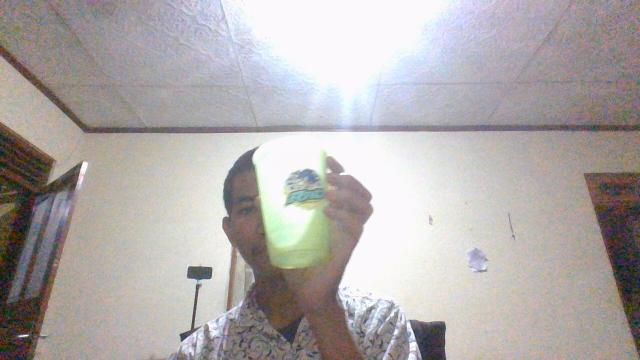botol-hijau: (250, 136, 335, 270)
